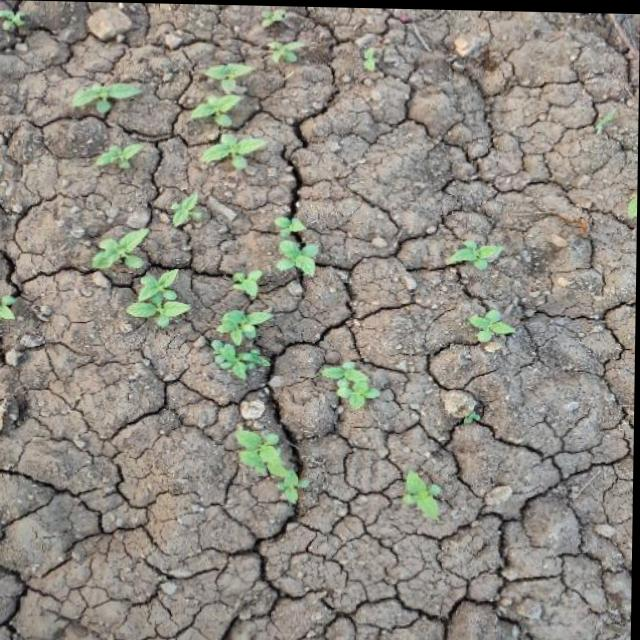crop: (82, 221, 193, 332), (228, 426, 318, 505), (209, 302, 283, 378), (268, 212, 325, 279), (66, 70, 147, 114), (462, 292, 515, 353), (325, 357, 382, 413), (403, 464, 455, 523), (446, 230, 504, 275), (83, 134, 147, 172), (194, 134, 267, 162)
